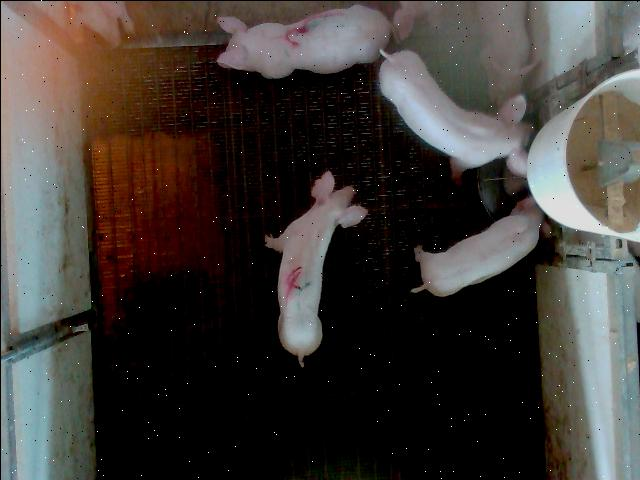pig-3: (216, 4, 390, 78)
pig-4: (264, 171, 366, 366)
